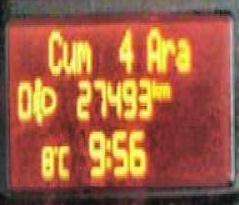0: (16, 78, 31, 120)
2: (75, 76, 90, 118)
3: (136, 76, 151, 118)
4: (116, 25, 132, 74), (106, 76, 121, 116)
5: (111, 125, 127, 176)
6: (127, 125, 146, 176)
7: (91, 76, 106, 116)
8: (38, 142, 53, 178)
9: (86, 127, 103, 176), (121, 76, 136, 120)
X: (144, 22, 160, 71), (46, 25, 61, 76), (75, 36, 91, 76), (175, 34, 191, 72), (61, 34, 75, 76), (160, 34, 174, 72), (57, 140, 70, 178), (103, 133, 111, 169), (157, 78, 170, 98), (151, 73, 157, 98)
